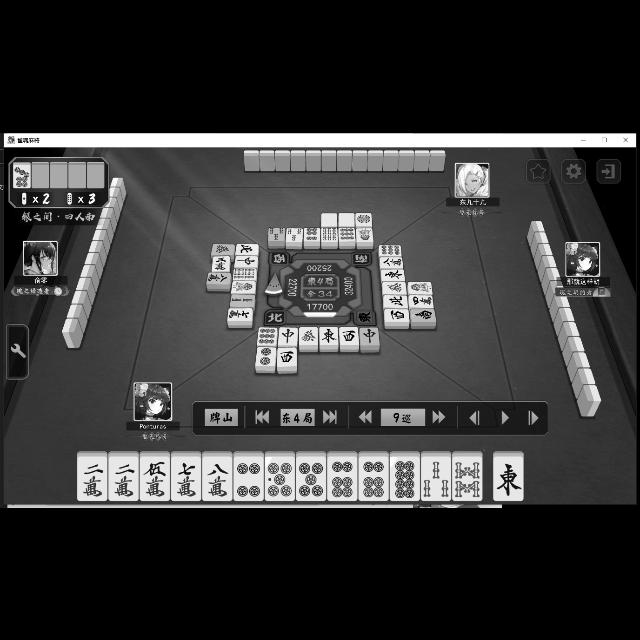1p: (356, 212, 372, 225)
1s: (408, 280, 432, 294), (232, 281, 254, 293), (356, 228, 374, 240)
2m: (77, 456, 106, 499), (110, 456, 138, 499)
2p: (255, 346, 275, 366)
2s: (230, 294, 253, 306)
3m: (212, 255, 230, 271)
3s: (422, 456, 451, 500), (286, 226, 302, 242), (268, 226, 284, 240)
4m: (409, 294, 433, 308)
4p: (233, 456, 264, 502)
5m: (140, 456, 170, 500)
5p: (296, 456, 326, 500), (266, 456, 294, 500)
6p: (358, 456, 388, 500), (328, 456, 358, 499), (304, 227, 320, 240)
6s: (232, 268, 255, 280), (321, 226, 337, 240)
7m: (172, 456, 200, 500), (228, 308, 252, 320)
7p: (14, 164, 31, 186)
8m: (202, 456, 232, 500), (207, 272, 229, 284), (380, 256, 402, 268)
8p: (390, 456, 420, 500)
8s: (454, 456, 482, 499)
9p: (258, 326, 276, 346), (378, 244, 402, 256), (339, 227, 355, 240)
chun: (278, 326, 296, 346), (360, 326, 380, 344), (234, 255, 256, 267)
haku: (322, 212, 338, 228), (340, 212, 354, 226)
hatsu: (382, 280, 406, 294), (300, 326, 318, 344), (212, 242, 234, 254)
nan: (410, 309, 436, 321)
pe: (384, 296, 408, 308), (236, 242, 258, 254)
sha: (278, 346, 296, 366), (339, 326, 358, 344), (385, 308, 409, 322)
tou: (494, 456, 524, 499), (320, 326, 338, 344), (382, 268, 406, 280)
